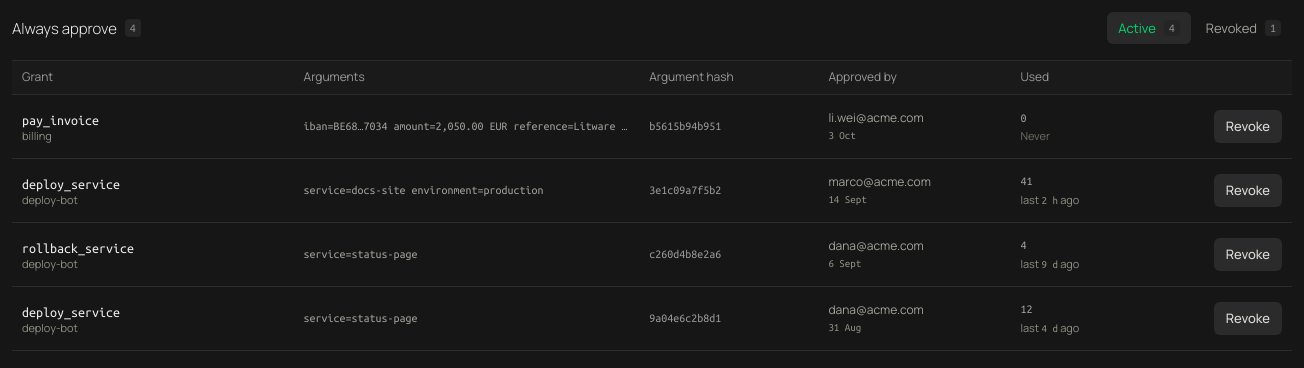
GrantsTable › switches to the revoked grants
Click the button "Revoked 1" at {"x": 1243, "y": 28}, box [1195,12,1292,44]
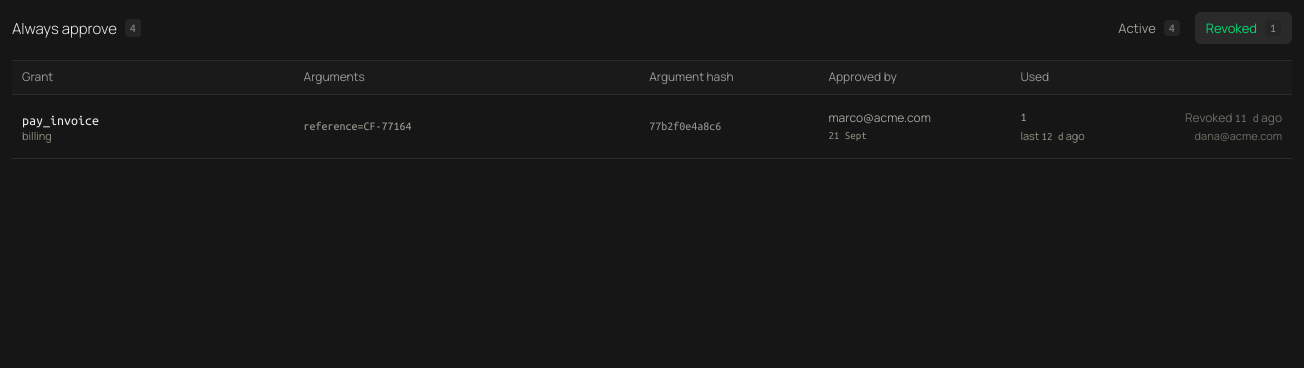
Check: the row that starts with "pay_invoice" shows "Revoked 11 d ago", box [12,94,1292,158]
